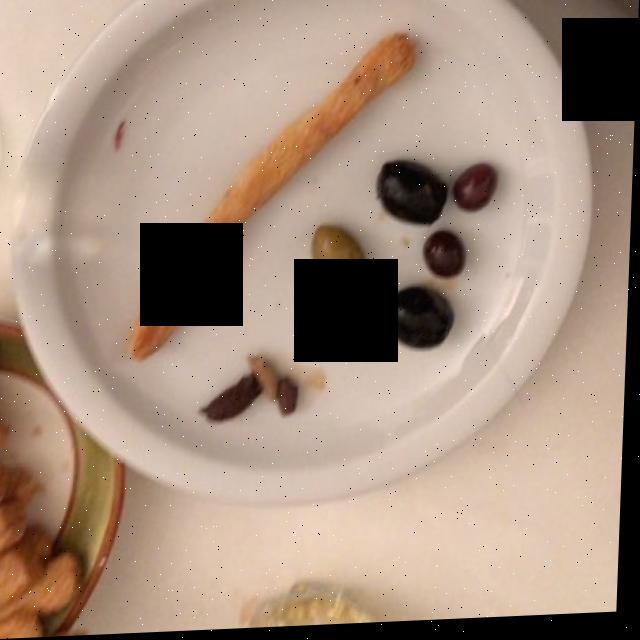black-olives: (306, 165, 499, 350)
